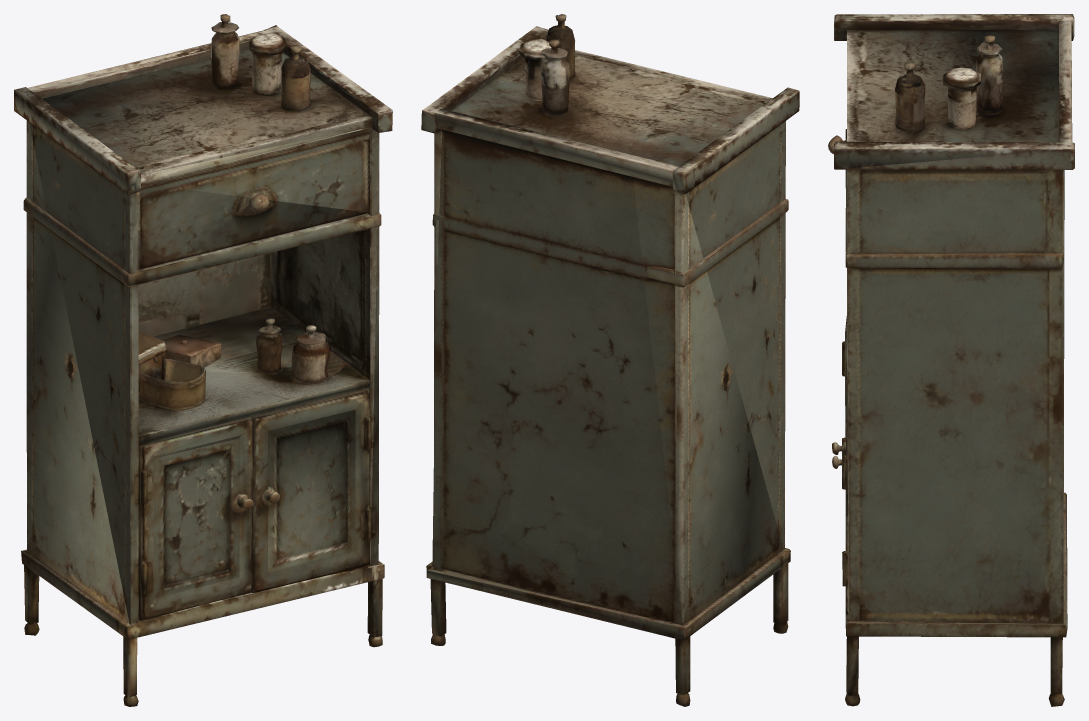
Rendered from MedicineShelfCabinet.fbx.
3 renders of one model, left to right at view 1: azimuth 30°, elevation 25°; view 2: azimuth 150°, elevation 25°; view 3: azimuth 270°, elevation 25°, orthographic. The views are drawn at different scales.
Parts seen in each view (by area): view 1: mesh_node; view 2: mesh_node; view 3: mesh_node.
Part boxes in pixels (x1,y1,x2,y2): mesh_node: [14, 14, 392, 706]; mesh_node: [421, 14, 799, 706]; mesh_node: [828, 14, 1074, 706].
Bounding box in the file's own units: 46.09 × 100 × 35.84.
1 material, 1 textured.
